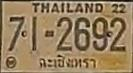1: (31, 16, 36, 50)
2: (109, 16, 125, 50), (56, 16, 71, 50)
6: (74, 16, 89, 50)
7: (8, 16, 24, 50)
9: (92, 16, 109, 50)
CCO: (37, 53, 97, 71)
